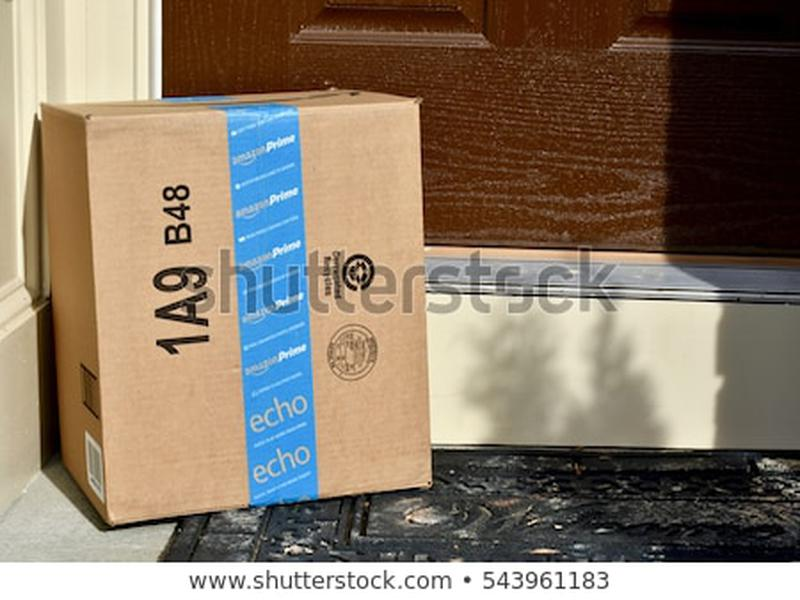package: (24, 75, 447, 538)
